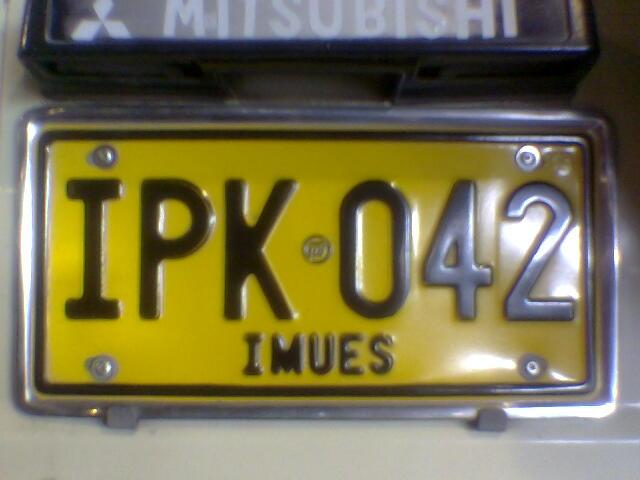placas: (20, 108, 610, 413)
